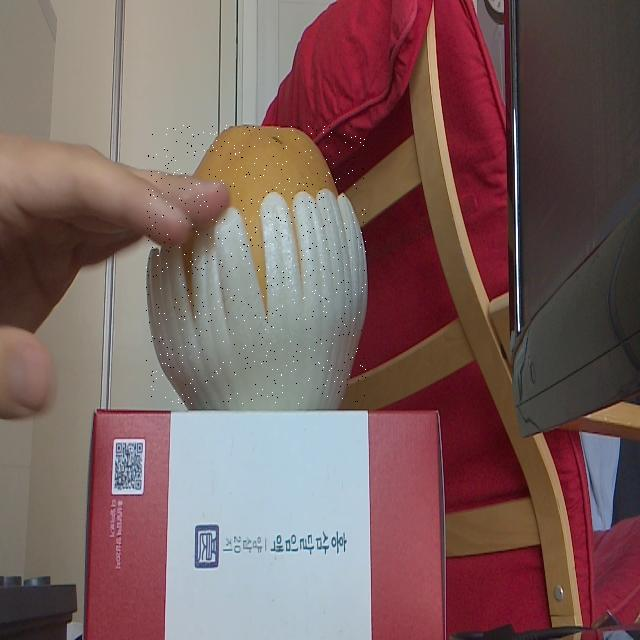pear: (146, 125, 366, 404)
